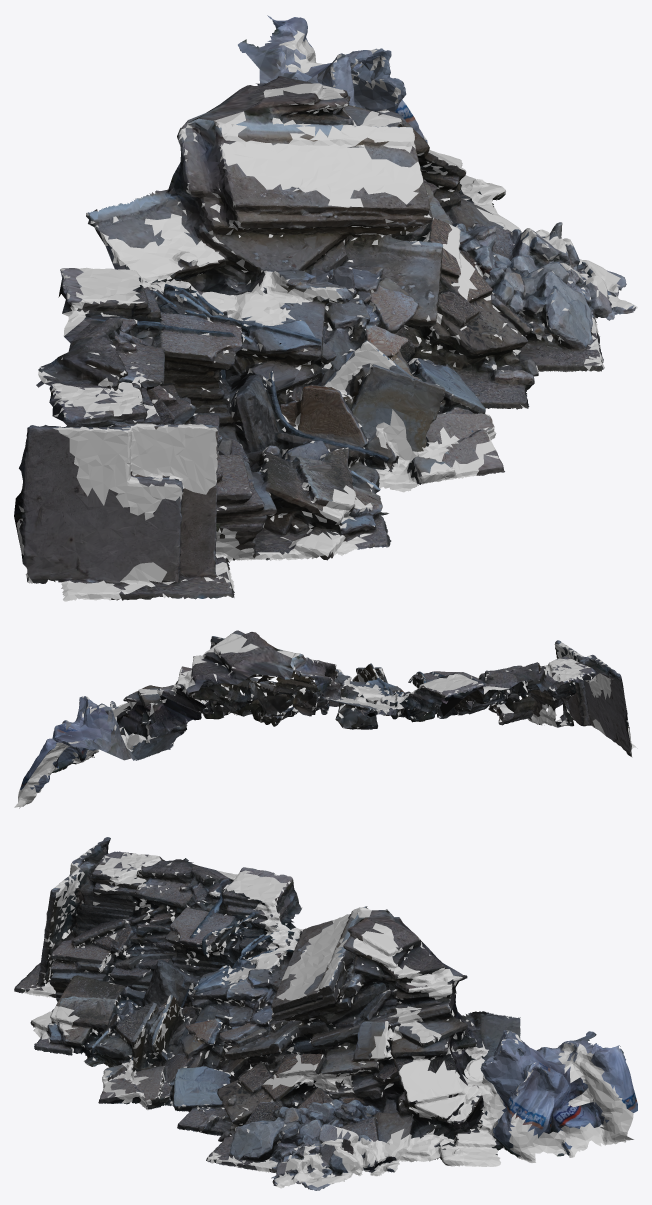
The model's file is RubblePileObtimized.fbx.
The picture shows the model from 3 angles, top to bottom: view 1: azimuth 30°, elevation 25°; view 2: azimuth 150°, elevation 25°; view 3: azimuth 270°, elevation 25°; orthographic projection. The views are drawn at different scales.
Visible parts, largest first — view 1: LOD3; view 2: LOD3; view 3: LOD3.
Part boxes in pixels (<box>): LOD3: <box>14,15,637,601</box>; LOD3: <box>14,630,637,808</box>; LOD3: <box>14,837,637,1190</box>.
Size of the model in its own units: 310 by 98.36 by 316.
